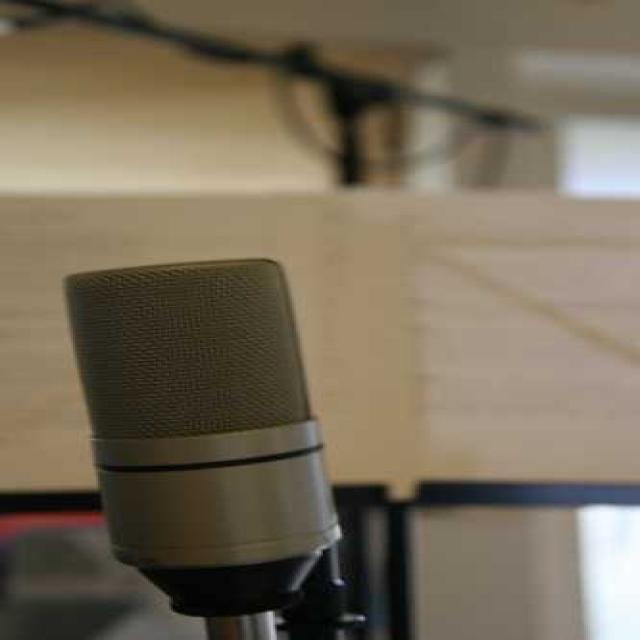microphone: (58, 258, 353, 629)
